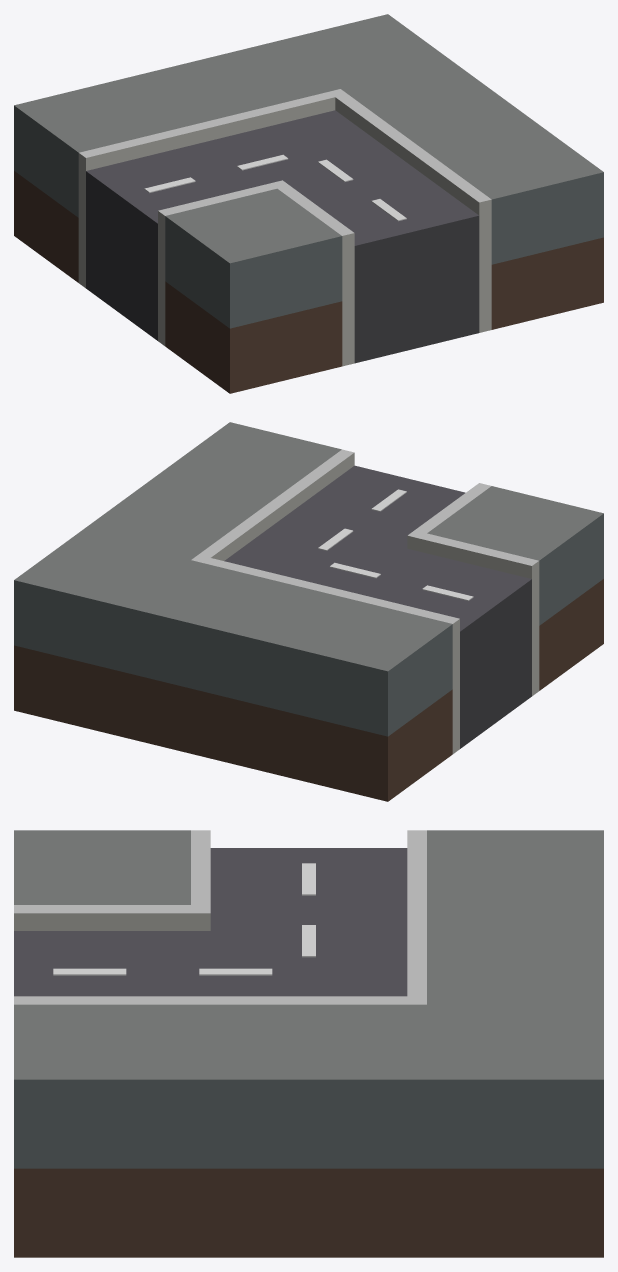
The model's file is TB_CITY_Road_G.FBX.
The picture shows the model from 3 angles, top to bottom: view 1: azimuth 30°, elevation 25°; view 2: azimuth 150°, elevation 25°; view 3: azimuth 270°, elevation 25°; orthographic projection. The views are drawn at different scales.
Parts seen in each view (by area): view 1: TB_CITY_Road_G; view 2: TB_CITY_Road_G; view 3: TB_CITY_Road_G.
Part boxes in pixels (x1,y1,x2,y2): TB_CITY_Road_G: (14,14,603,393); TB_CITY_Road_G: (14,422,603,801); TB_CITY_Road_G: (14,830,603,1257).
Bounding box in the file's own units: 30 × 10 × 30.
